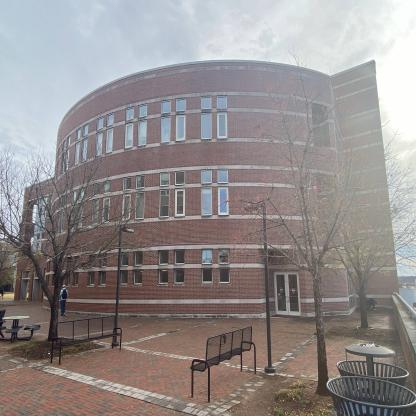EB-1: (15, 82, 402, 301)
